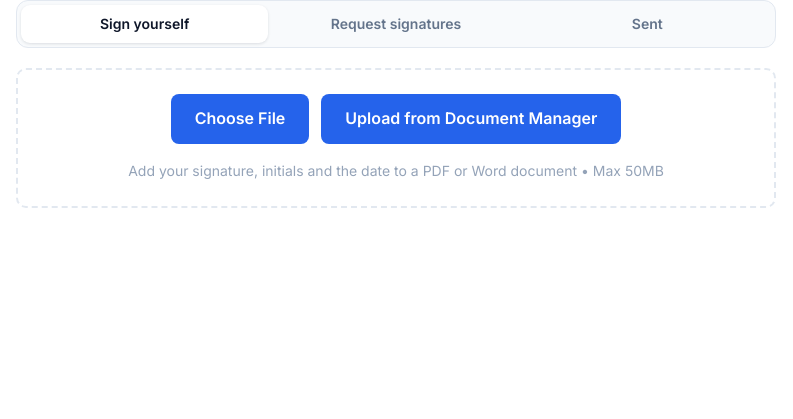
Test: the Sent tab shows each signer’s progress and can send reminders
This screenshot has width=793, height=419.
Click the tab "Sent".
click(647, 24)  # box [524, 5, 771, 43]
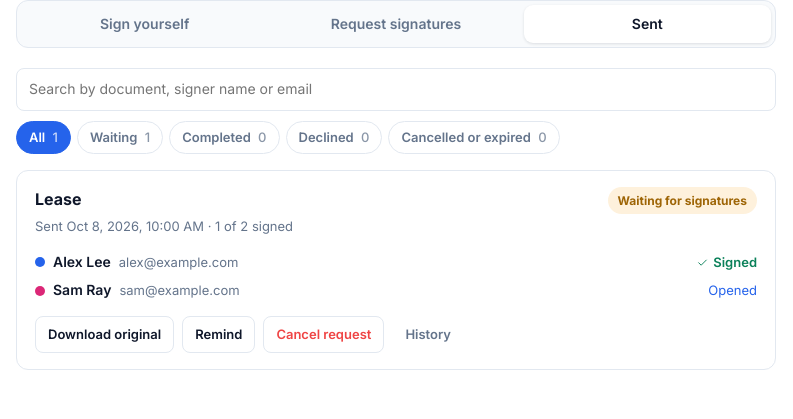
Check: the heading "Lease" is shown, box [35, 189, 82, 209]
Check: the text "Sent Oct 8, 2026, 10:00 AM · 1 of 2 signed" is shown, box [35, 216, 293, 237]
Check: the text "Waiting for signatures" is shown, box [608, 187, 757, 214]
Click the button "Remind".
click(219, 334)  # box [182, 316, 255, 353]
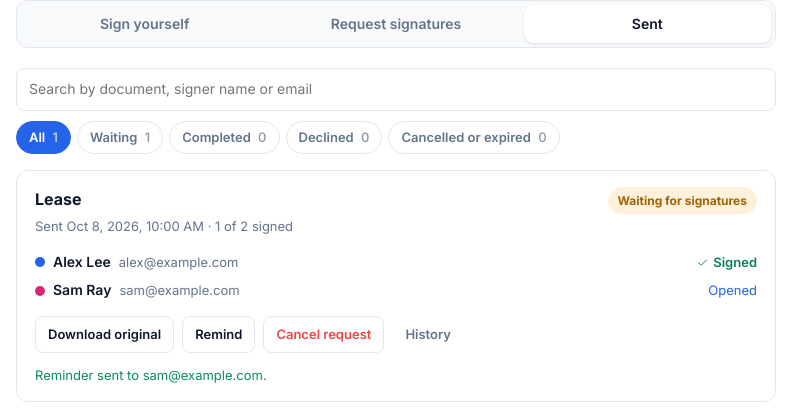
Check: the message reads "Reminder sent to sam@example.com.", box [35, 366, 267, 382]
